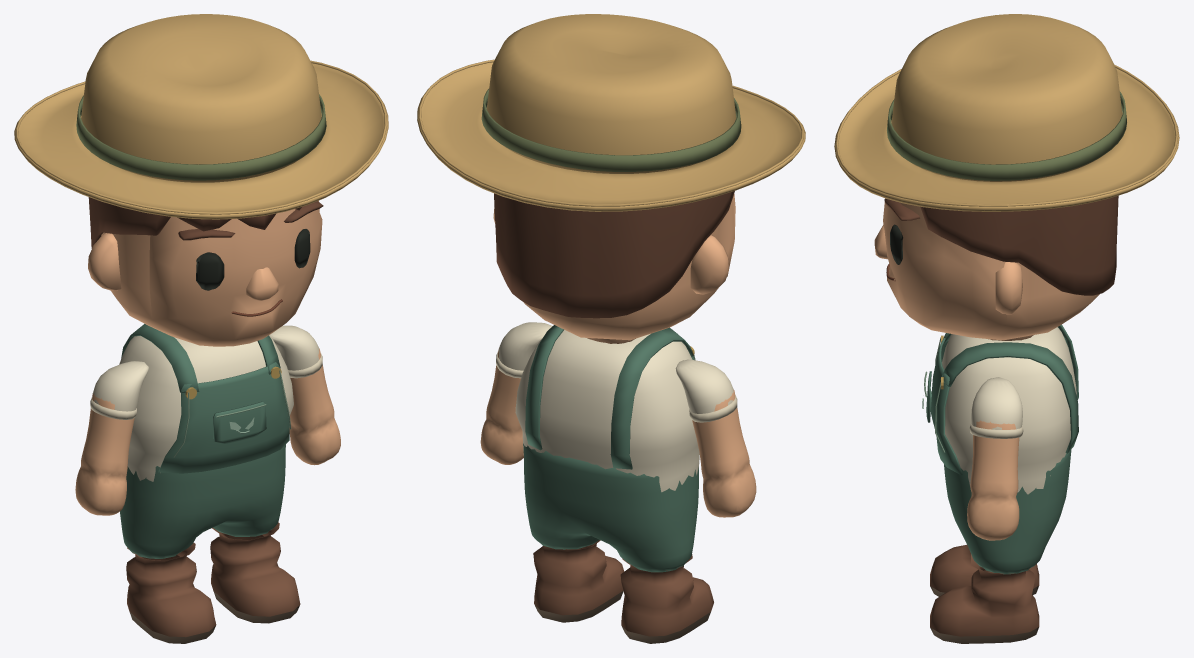
Rendered from gardener-v041.glb.
3 views of the same model, side by side, from view 1: azimuth 30°, elevation 25°; view 2: azimuth 150°, elevation 25°; view 3: azimuth 270°, elevation 25° (orthographic). The views are drawn at different scales.
Visible parts, largest first — view 1: Straw crown • shaped shoulder and shallow top, Face and ears • adapted KayKit topology, Straw brim • cambered oval with rolled lip, Overalls • continuous waist seat crotch and legs, Shirt • shaped shoulder and torso mesh, Bib • fitted curved denim, Boot 1 • adapted KayKit mesh, Boot -1 • adapted KayKit mesh, Arm R • mirrored continuous forearm, Hat ribbon • fitted olive band, Arm L • KayKit hand and continuous forearm, Hair • short tapered tousled cap (+7 smaller); view 2: Straw crown • shaped shoulder and shallow top, Hair • short tapered tousled cap, Straw brim • cambered oval with rolled lip, Shirt • shaped shoulder and torso mesh, Overalls • continuous waist seat crotch and legs, Face and ears • adapted KayKit topology, Boot -1 • adapted KayKit mesh, Boot 1 • adapted KayKit mesh, Arm R • mirrored continuous forearm, Hat ribbon • fitted olive band, Shoulder strap -1, Arm L • KayKit hand and continuous forearm (+4 smaller); view 3: Straw crown • shaped shoulder and shallow top, Straw brim • cambered oval with rolled lip, Face and ears • adapted KayKit topology, Hair • short tapered tousled cap, Shirt • shaped shoulder and torso mesh, Boot 1 • adapted KayKit mesh, Overalls • continuous waist seat crotch and legs, Arm L • KayKit hand and continuous forearm, Hat ribbon • fitted olive band, Shoulder strap 1, Sleeve 1, Boot -1 • adapted KayKit mesh (+3 smaller).
Part boxes in pixels (left/top/right/bottom): Straw crown • shaped shoulder and shallow top: left=81, top=14, right=321, bottom=182; Face and ears • adapted KayKit topology: left=88, top=200, right=322, bottom=346; Straw brim • cambered oval with rolled lip: left=14, top=63, right=388, bottom=219; Overalls • continuous waist seat crotch and legs: left=120, top=444, right=285, bottom=558; Shirt • shaped shoulder and torso mesh: left=119, top=335, right=293, bottom=481; Bib • fitted curved denim: left=158, top=362, right=289, bottom=473; Boot 1 • adapted KayKit mesh: left=210, top=522, right=300, bottom=623; Boot -1 • adapted KayKit mesh: left=126, top=542, right=216, bottom=643; Arm R • mirrored continuous forearm: left=75, top=393, right=134, bottom=515; Hat ribbon • fitted olive band: left=76, top=94, right=326, bottom=180; Arm L • KayKit hand and continuous forearm: left=289, top=348, right=340, bottom=465; Hair • short tapered tousled cap: left=88, top=197, right=301, bottom=248; Straw crown • shaped shoulder and shallow top: left=486, top=14, right=736, bottom=173; Hair • short tapered tousled cap: left=494, top=191, right=734, bottom=318; Straw brim • cambered oval with rolled lip: left=417, top=62, right=805, bottom=211; Shirt • shaped shoulder and torso mesh: left=515, top=330, right=699, bottom=492; Overalls • continuous waist seat crotch and legs: left=523, top=443, right=698, bottom=572; Face and ears • adapted KayKit topology: left=493, top=194, right=735, bottom=340; Boot -1 • adapted KayKit mesh: left=620, top=554, right=713, bottom=643; Boot 1 • adapted KayKit mesh: left=533, top=540, right=624, bottom=622; Arm R • mirrored continuous forearm: left=692, top=389, right=756, bottom=517; Hat ribbon • fitted olive band: left=481, top=88, right=741, bottom=171; Shoulder strap -1: left=610, top=327, right=693, bottom=469; Arm L • KayKit hand and continuous forearm: left=480, top=349, right=523, bottom=464; Straw crown • shaped shoulder and shallow top: left=891, top=14, right=1122, bottom=181; Straw brim • cambered oval with rolled lip: left=834, top=68, right=1179, bottom=211; Face and ears • adapted KayKit topology: left=874, top=198, right=1099, bottom=340; Hair • short tapered tousled cap: left=920, top=195, right=1118, bottom=295; Shirt • shaped shoulder and torso mesh: left=942, top=327, right=1076, bottom=494; Boot 1 • adapted KayKit mesh: left=930, top=554, right=1039, bottom=643; Overalls • continuous waist seat crotch and legs: left=944, top=437, right=1071, bottom=574; Arm L • KayKit hand and continuous forearm: left=967, top=420, right=1019, bottom=540; Hat ribbon • fitted olive band: left=887, top=91, right=1126, bottom=180; Shoulder strap 1: left=940, top=342, right=1078, bottom=453; Sleeve 1: left=971, top=377, right=1022, bottom=429; Boot -1 • adapted KayKit mesh: left=930, top=544, right=1039, bottom=596.
Bounding box in the file's own units: 1.46 × 2.31 × 1.3.
